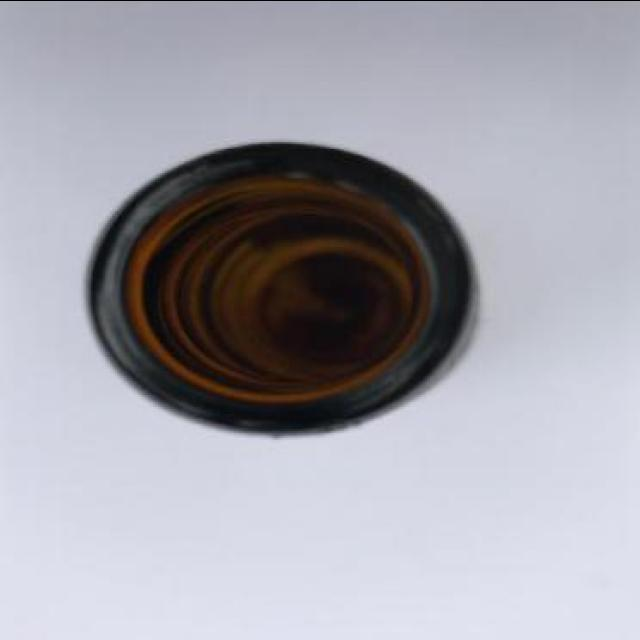kaca: (86, 144, 473, 438)
